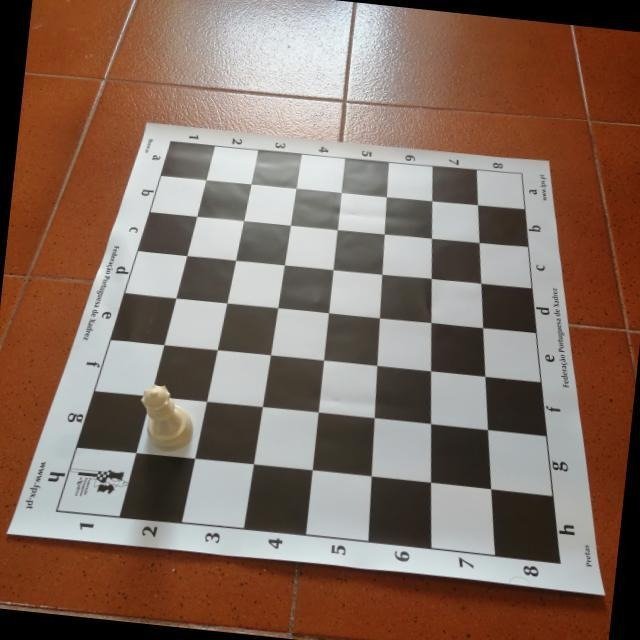white-queen: (134, 381, 198, 454)
